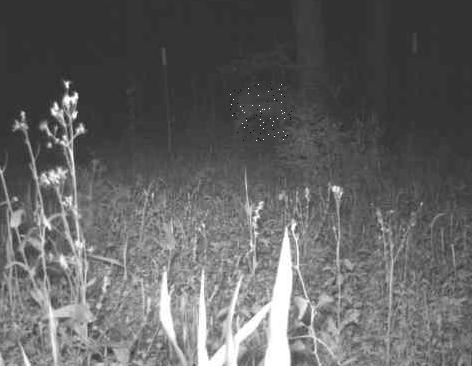Deer: (230, 84, 292, 142)
